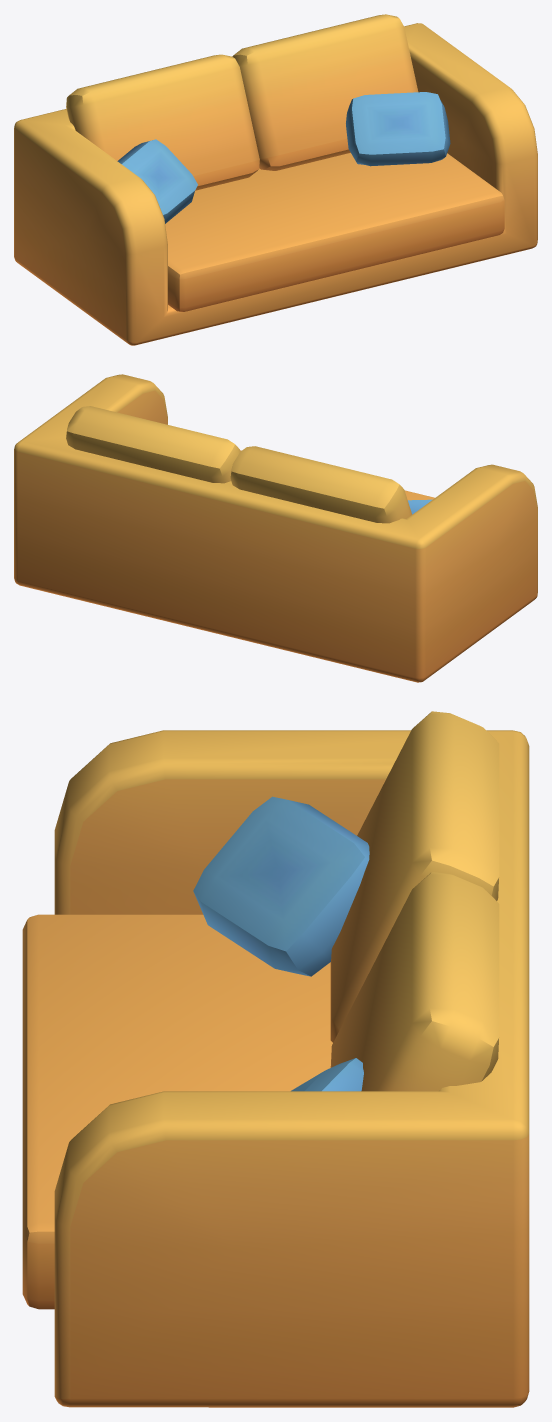
File: sofa.glb
The picture shows the model from 3 angles, top to bottom: view 1: azimuth 30°, elevation 25°; view 2: azimuth 150°, elevation 25°; view 3: azimuth 270°, elevation 25°; orthographic projection. The views are drawn at different scales.
Parts seen in each view (by area): view 1: couch_pillows; view 2: couch_pillows; view 3: couch_pillows.
Part boxes in pixels (x1=…): couch_pillows: x1=14, y1=14, x2=537, y2=345; couch_pillows: x1=14, y1=374, x2=537, y2=682; couch_pillows: x1=22, y1=711, x2=529, y2=1407.
Bounding box in the file's own units: 3 × 1.22 × 1.6.
Materials: 1 (1 with a texture image).
